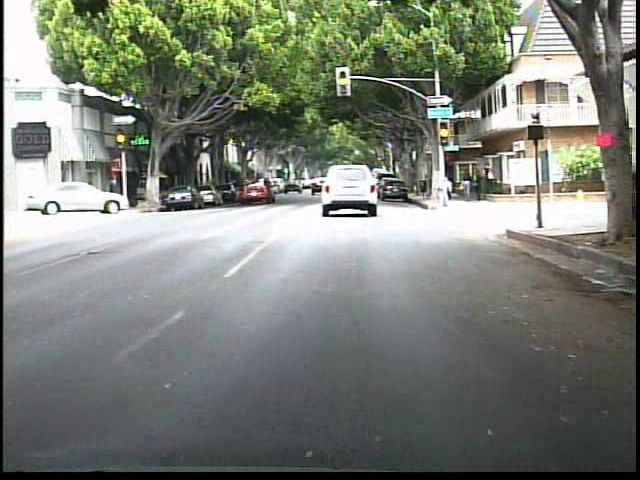person: (435, 172, 457, 211), (460, 168, 475, 203), (473, 167, 486, 204), (482, 160, 495, 196)
